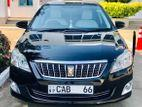car: (9, 2, 134, 107)
